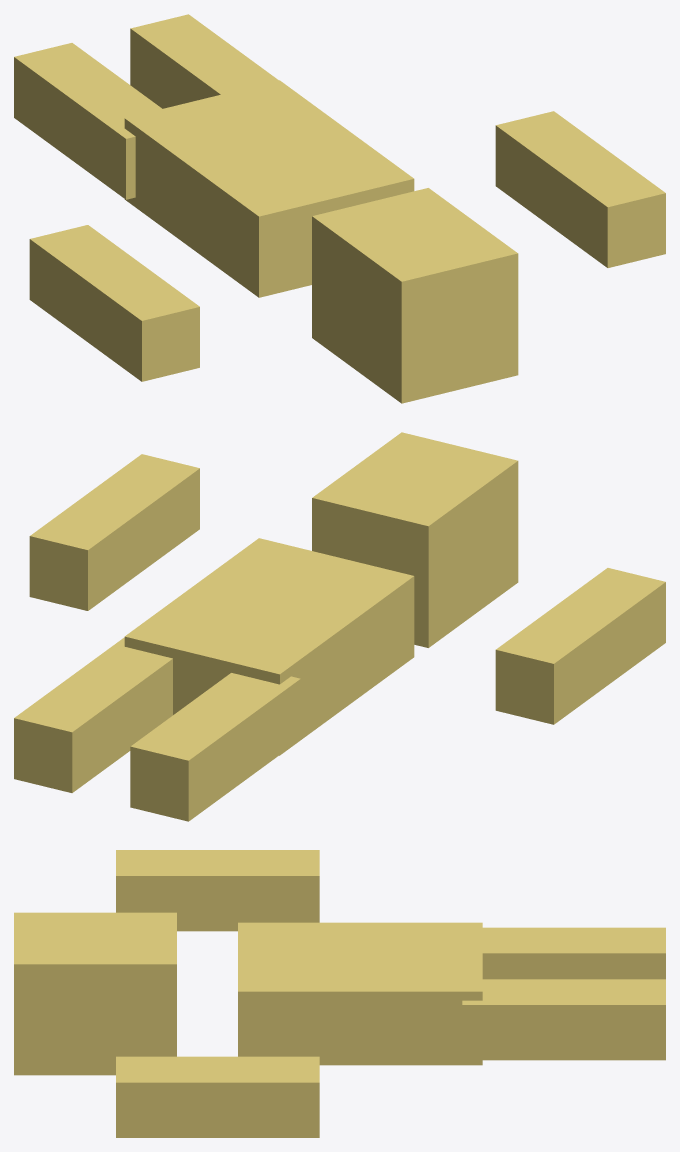
File: pharaoh_hero_hades.glb
The picture shows the model from 3 angles, top to bottom: view 1: azimuth 30°, elevation 25°; view 2: azimuth 150°, elevation 25°; view 3: azimuth 270°, elevation 25°; orthographic projection. The views are drawn at different scales.
Parts seen in each view (by area): view 1: pharaoh_hero; view 2: pharaoh_hero; view 3: pharaoh_hero.
Boxes of the visible parts, left/top/right/bottom form: pharaoh_hero: left=14, top=14, right=665, bottom=403; pharaoh_hero: left=14, top=432, right=665, bottom=821; pharaoh_hero: left=14, top=850, right=665, bottom=1137.
Size of the model in its own units: 2.7 by 0.6 by 3.2.
